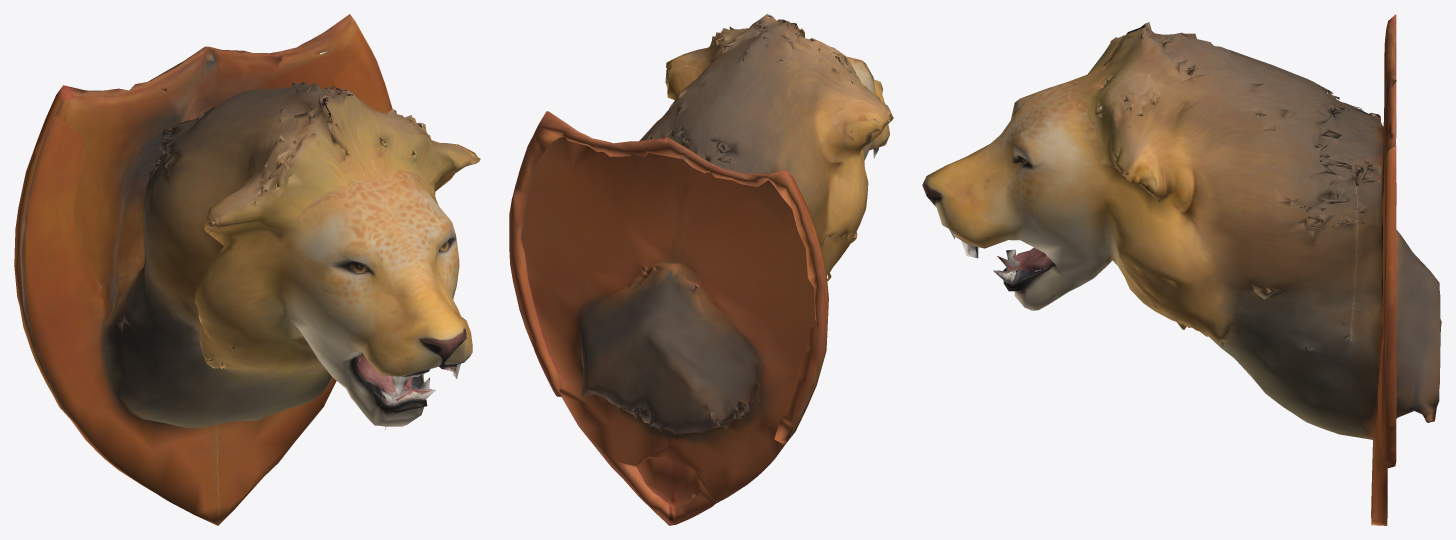
The model's file is Lion_Head_Majesty_0727124424_texture.fbx.
3 views of the same model, side by side, from view 1: azimuth 30°, elevation 25°; view 2: azimuth 150°, elevation 25°; view 3: azimuth 270°, elevation 25° (orthographic). The views are drawn at different scales.
Visible parts, largest first — view 1: input; view 2: input; view 3: input.
Part boxes in pixels (box(x1,y1,x2,y2)): input: box(14, 14, 480, 525); input: box(509, 14, 893, 525); input: box(922, 14, 1441, 525).
Bounding box in the file's own units: 149 × 194 × 184.
Materials: 1 (1 with a texture image).
